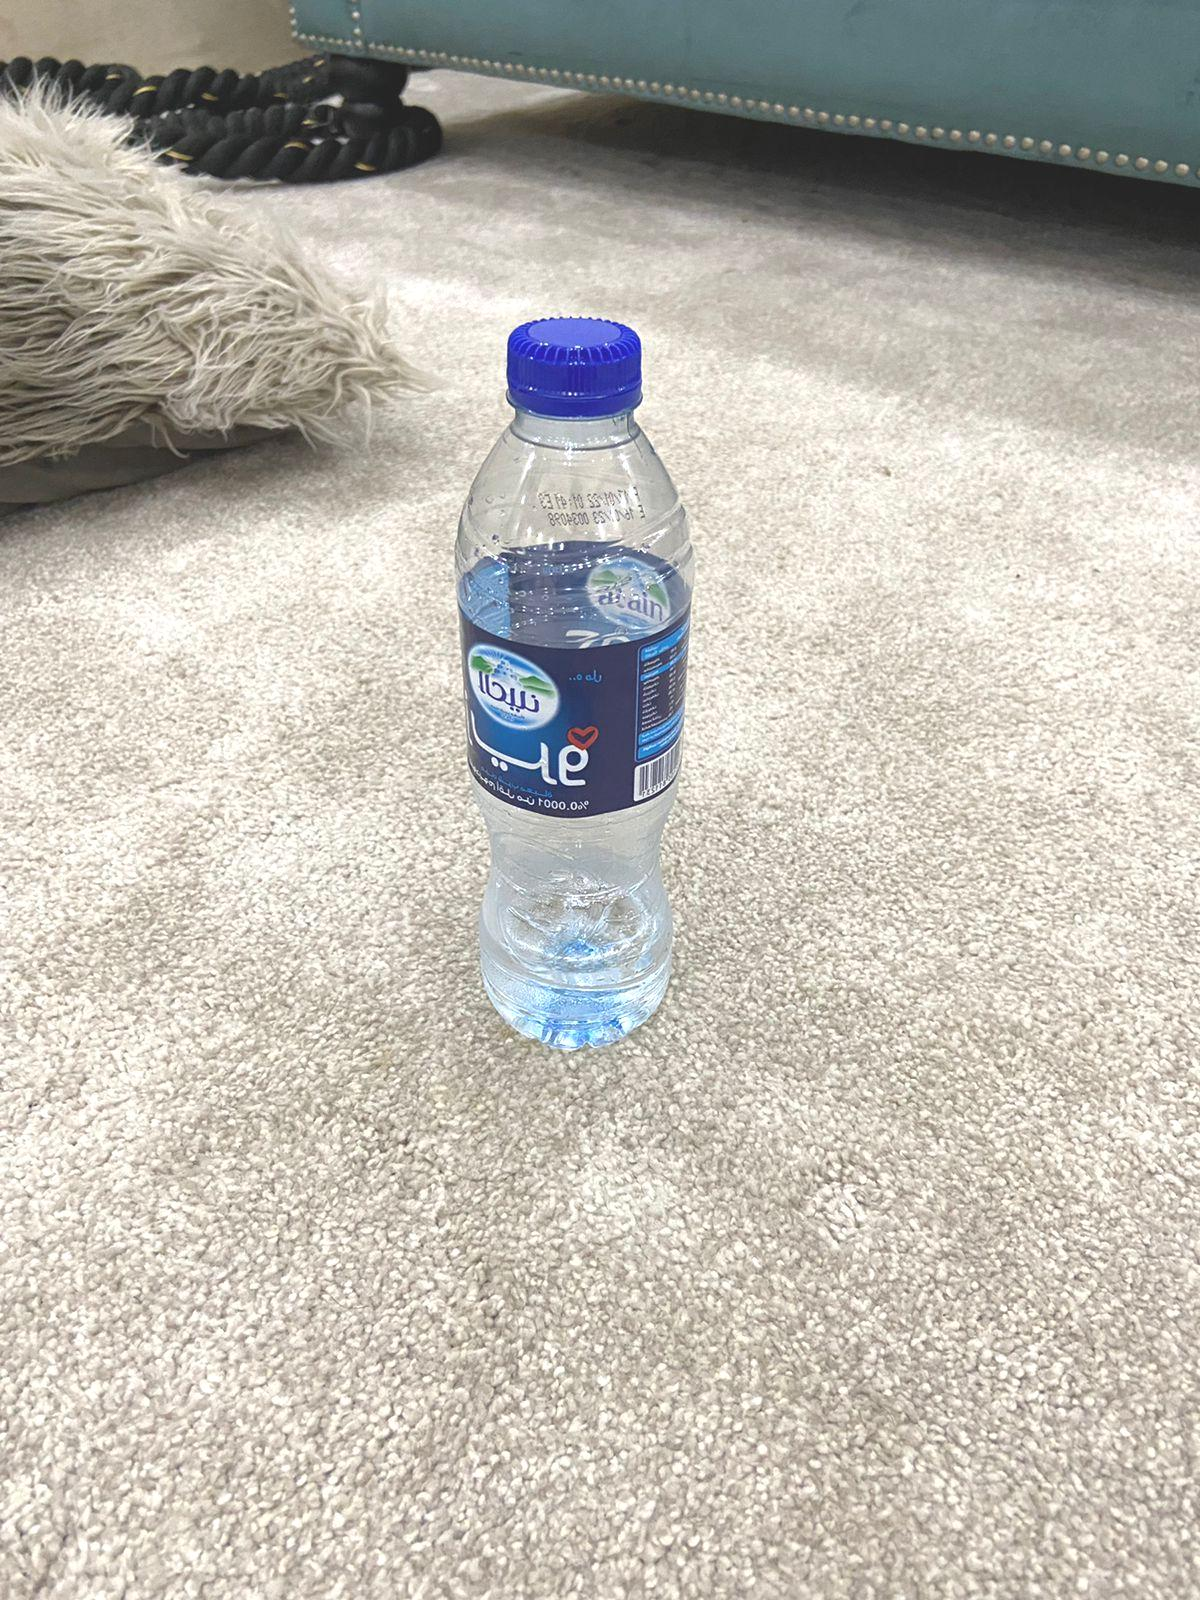bottle: (442, 300, 697, 1052)
